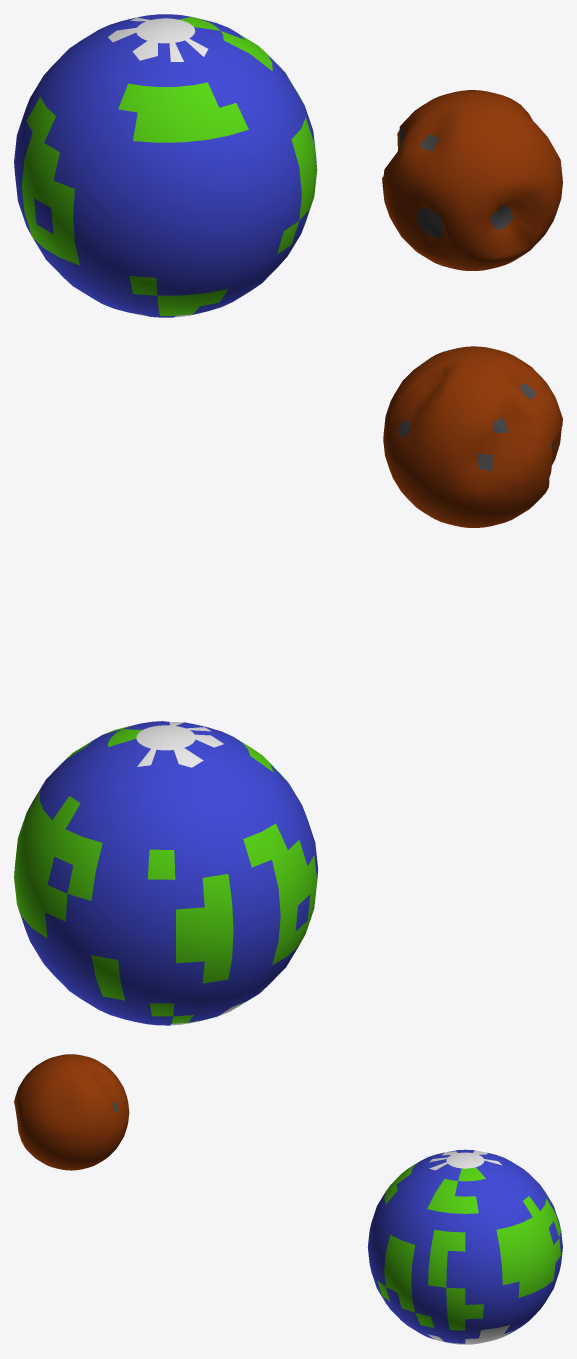
Rendered from Planet3.fbx.
The picture shows the model from 3 angles, top to bottom: view 1: azimuth 30°, elevation 25°; view 2: azimuth 150°, elevation 25°; view 3: azimuth 270°, elevation 25°; orthographic projection. The views are drawn at different scales.
Parts seen in each view (by area): view 1: Sphere; view 2: Sphere; view 3: Sphere.
Part boxes in pixels (<box>): Sphere: <box>14,14,562,317</box>; Sphere: <box>14,346,562,1025</box>; Sphere: <box>14,1054,562,1344</box>.
Size of the model in its own units: 200 by 312 by 562.
